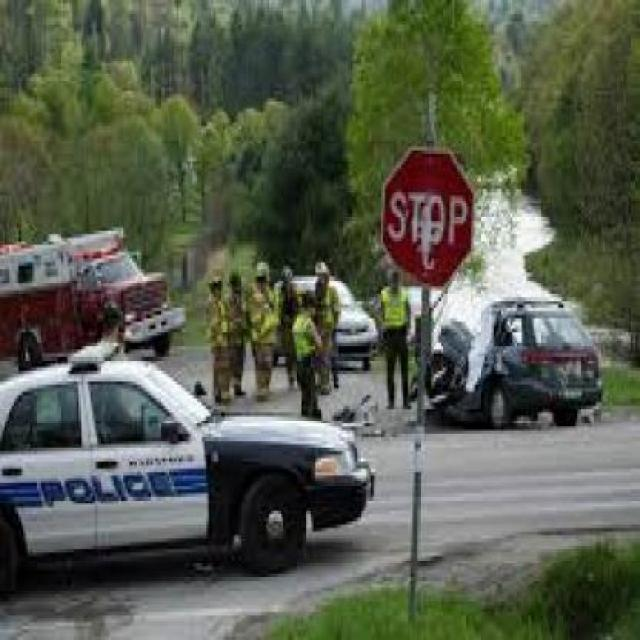accident: (441, 277, 627, 441)
